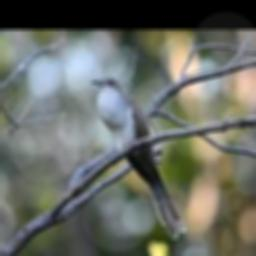Cuckoo: (89, 75, 185, 238)
